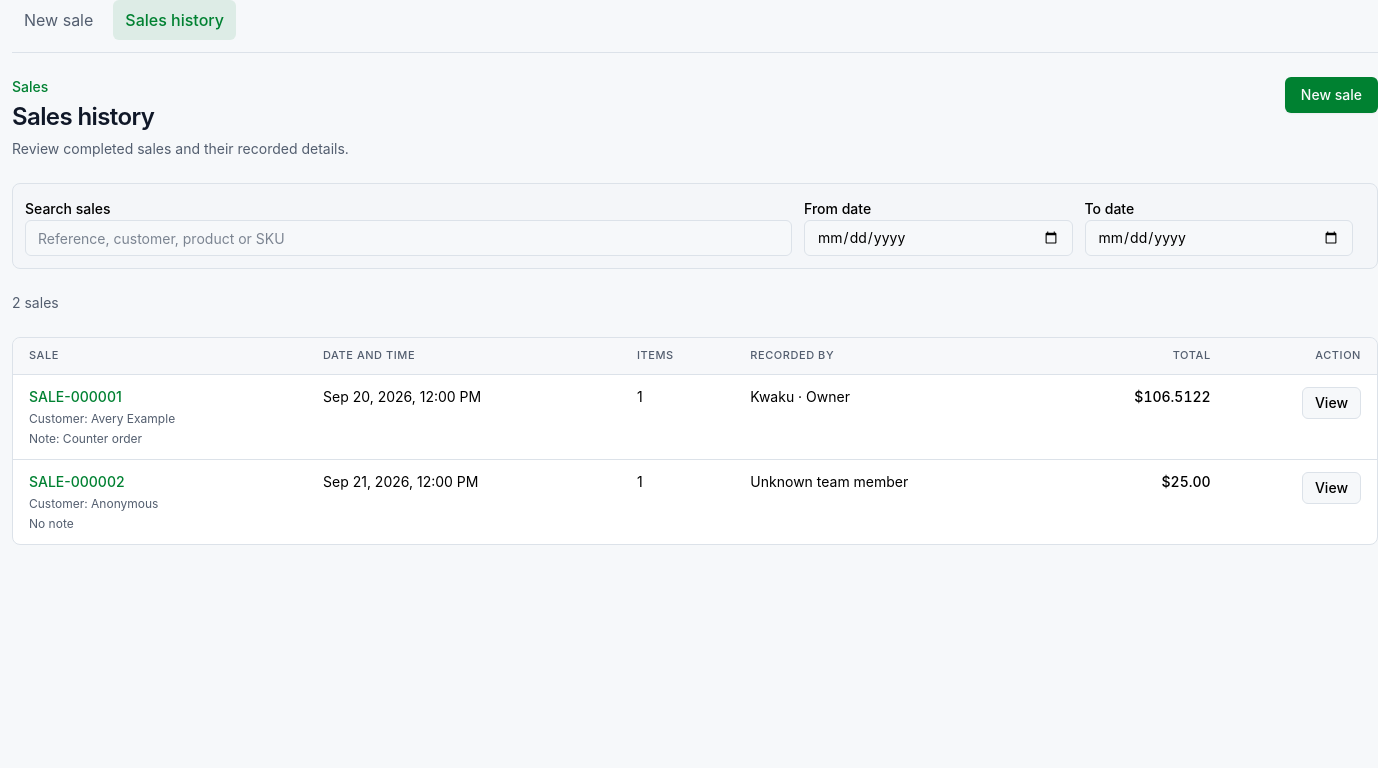
Test: sales history and details › filters transaction history by immutable customer name snapshot
Type "Avery Example" into the search field labelled "Search sales" at (408, 238), box [25,220,792,256]
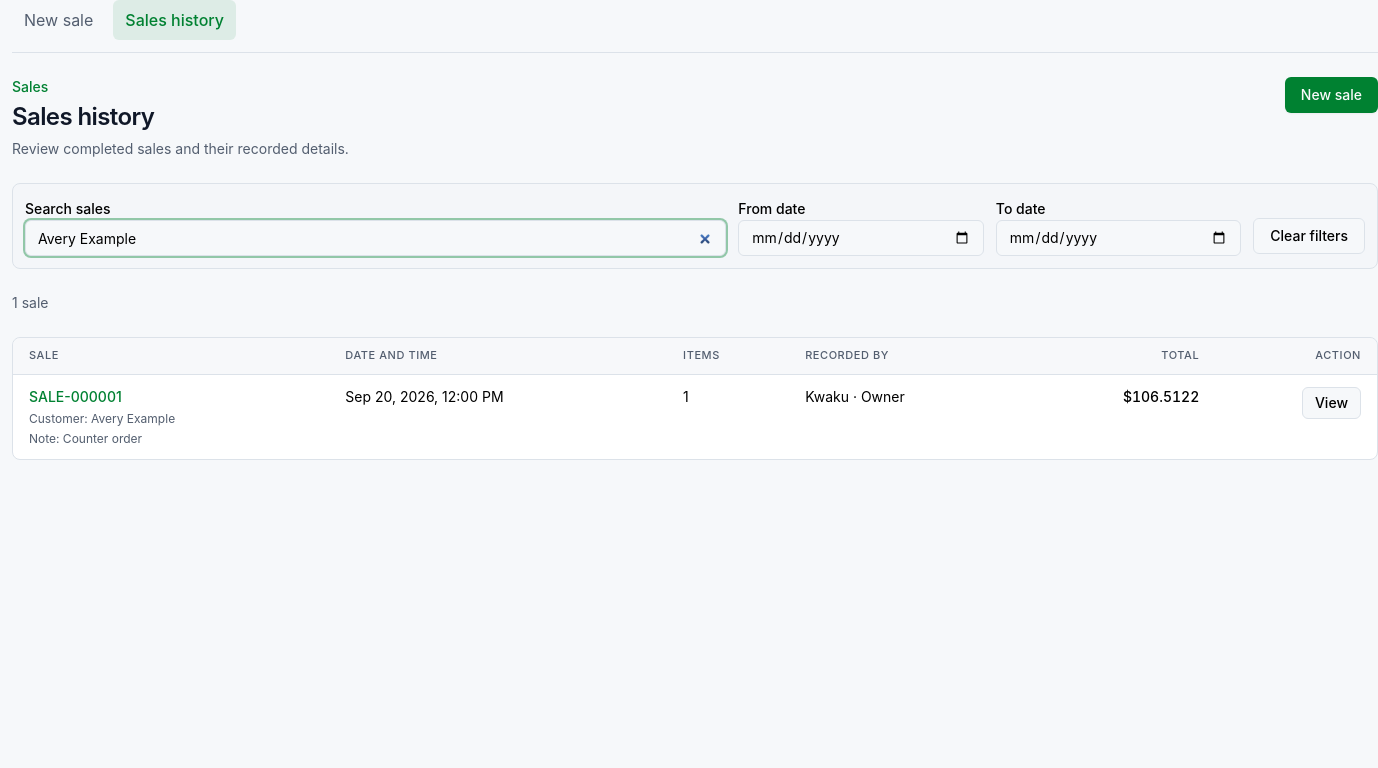
expect the link "SALE-000001" is shown: met, box [29,388,122,405]
expect the link "SALE-000002" is gone: met
